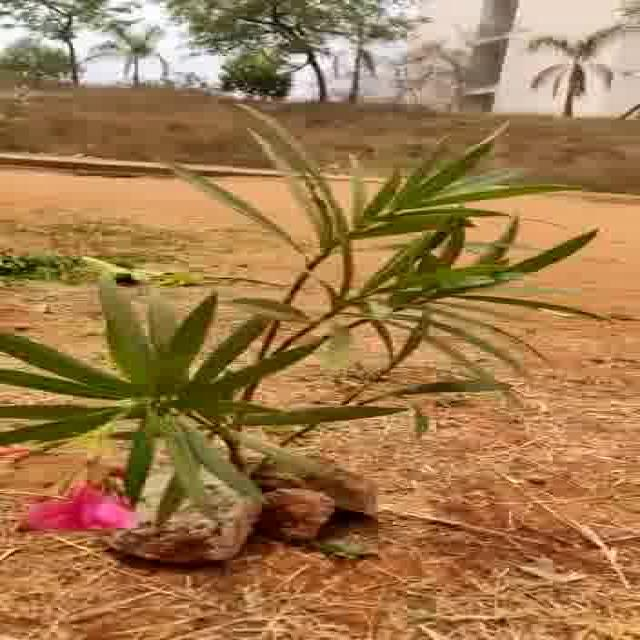Oleander: (19, 139, 624, 541)
